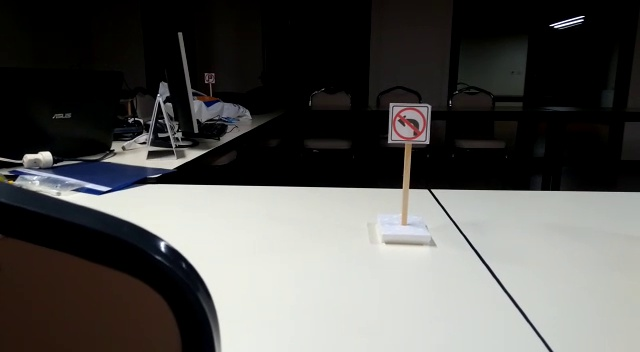sola_donulmez: (391, 105, 428, 141)
